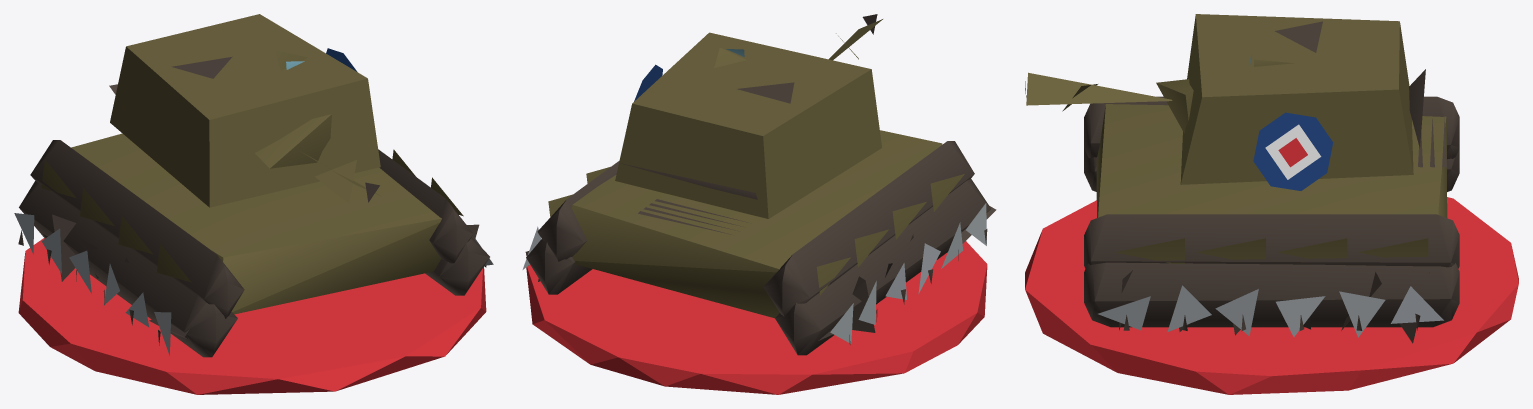
Rendered from united_kingdom_tank_lod1.glb.
3 views of the same model, side by side, from view 1: azimuth 30°, elevation 25°; view 2: azimuth 150°, elevation 25°; view 3: azimuth 270°, elevation 25° (orthographic). The views are drawn at different scales.
Visible parts, largest first — view 1: body_hull, base_pedestal; view 2: body_hull, base_pedestal; view 3: body_hull, base_pedestal.
Part boxes in pixels (<box>): body_hull: <box>14,14,493,357</box>; base_pedestal: <box>18,238,486,394</box>; body_hull: <box>522,14,996,355</box>; base_pedestal: <box>526,241,987,394</box>; body_hull: <box>1025,14,1459,343</box>; base_pedestal: <box>1025,197,1518,394</box>.
Size of the model in its own units: 0.7791 by 0.4347 by 0.7771.
